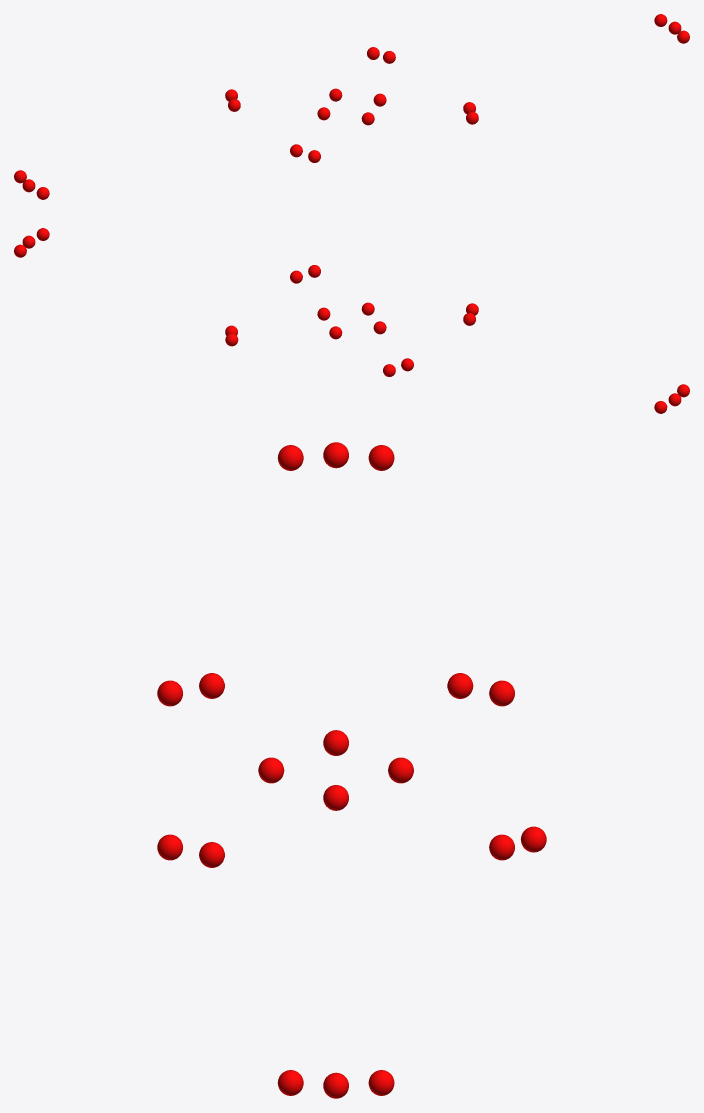
Rendered from popBumper_TestTable01_kgunn.fbx.
3 views of the same model, one above another, from view 1: azimuth 30°, elevation 25°; view 2: azimuth 150°, elevation 25°; view 3: azimuth 270°, elevation 25° (orthographic). The views are drawn at different scales.
Bounding box in the file's own units: 23.4 × 0.4 × 6.
